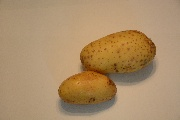potato: (78, 31, 156, 73), (58, 69, 117, 103)
